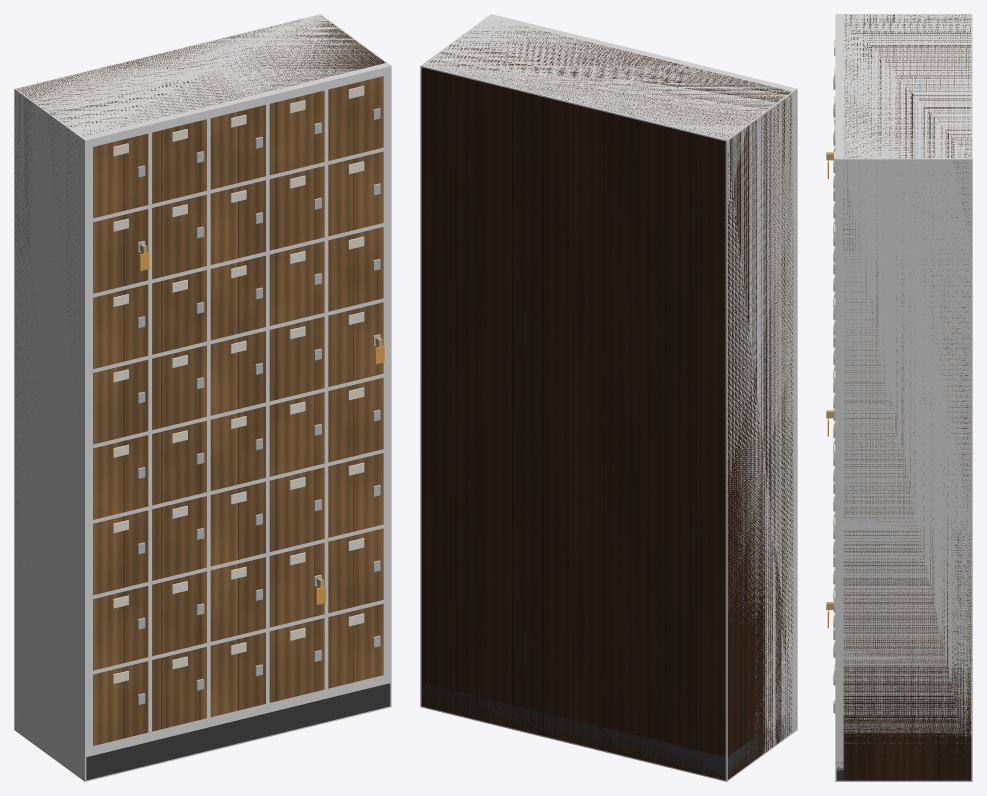
Rendered from shoe_locker.glb.
The picture shows the model from 3 angles, left to right: view 1: azimuth 30°, elevation 25°; view 2: azimuth 150°, elevation 25°; view 3: azimuth 270°, elevation 25°; orthographic projection. The views are drawn at different scales.
Visible parts, largest first — view 1: ShoeLocker, COL_Locker; view 2: ShoeLocker, COL_Locker; view 3: COL_Locker, ShoeLocker.
Part boxes in pixels (left/top/right/bottom): ShoeLocker: left=15, top=16, right=390, bottom=780; COL_Locker: left=14, top=14, right=391, bottom=781; ShoeLocker: left=421, top=26, right=796, bottom=780; COL_Locker: left=420, top=14, right=797, bottom=781; COL_Locker: left=835, top=14, right=972, bottom=781; ShoeLocker: left=826, top=14, right=971, bottom=780.
Bounding box in the file's own units: 1 × 2 × 0.426.
7 materials, 2 textured.
